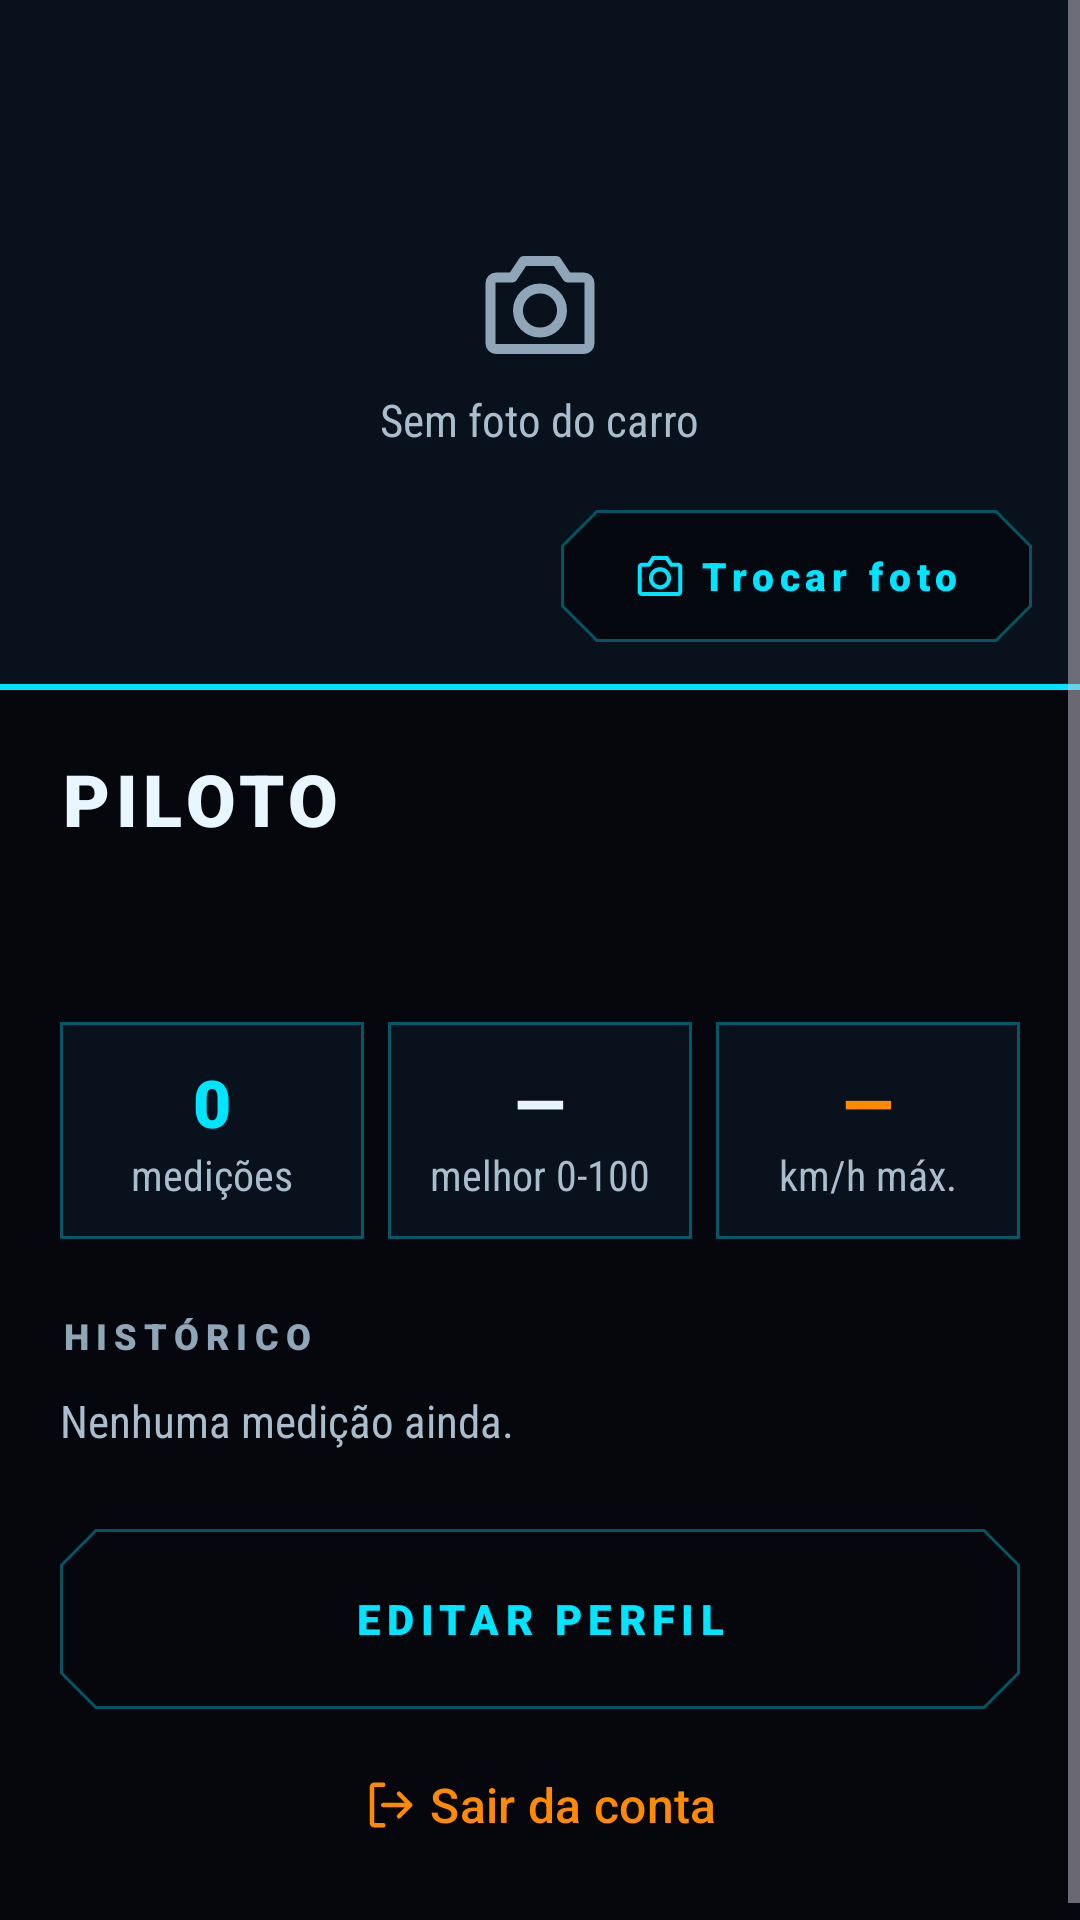

Where icons sit on this 1080×1920 app screen, as box=[x1, y1, x2, y2]:
camera: box=[485, 256, 595, 354]
